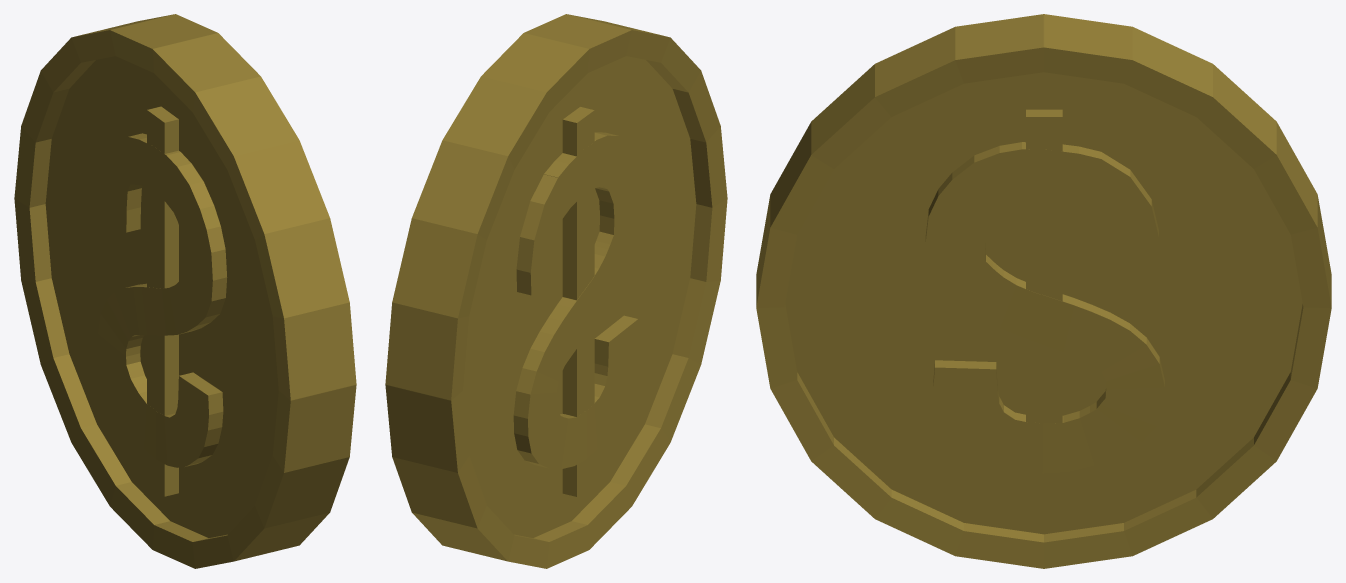
The model's file is monetka.glb.
3 views of the same model, side by side, from view 1: azimuth 30°, elevation 25°; view 2: azimuth 150°, elevation 25°; view 3: azimuth 270°, elevation 25° (orthographic). The views are drawn at different scales.
Visible parts, largest first — view 1: Cube; view 2: Cube; view 3: Cube.
Part boxes in pixels (x1,y1,x2,y2): Cube: (14,14,356,568); Cube: (385,14,727,568); Cube: (756,14,1331,568).
Size of the model in its own units: 0.2748 by 2 by 2.
